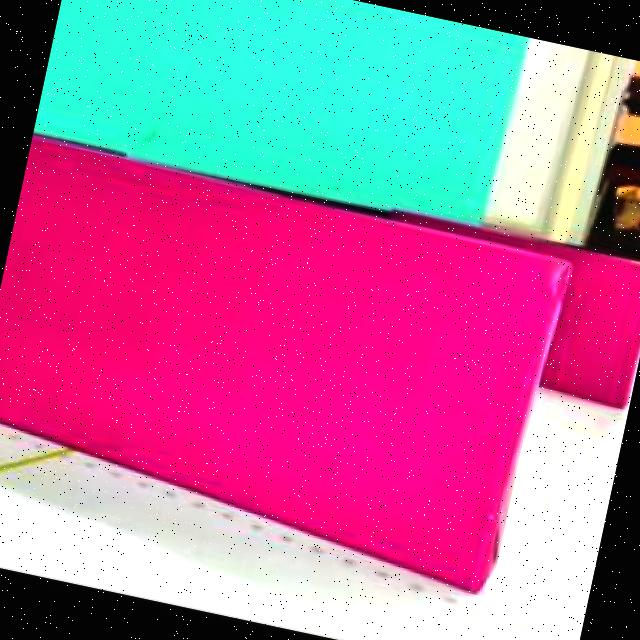xparking: (0, 145, 550, 604), (546, 250, 640, 407)
